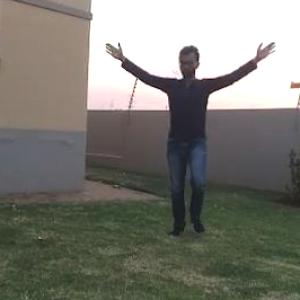takeoff: (109, 2, 299, 258)
